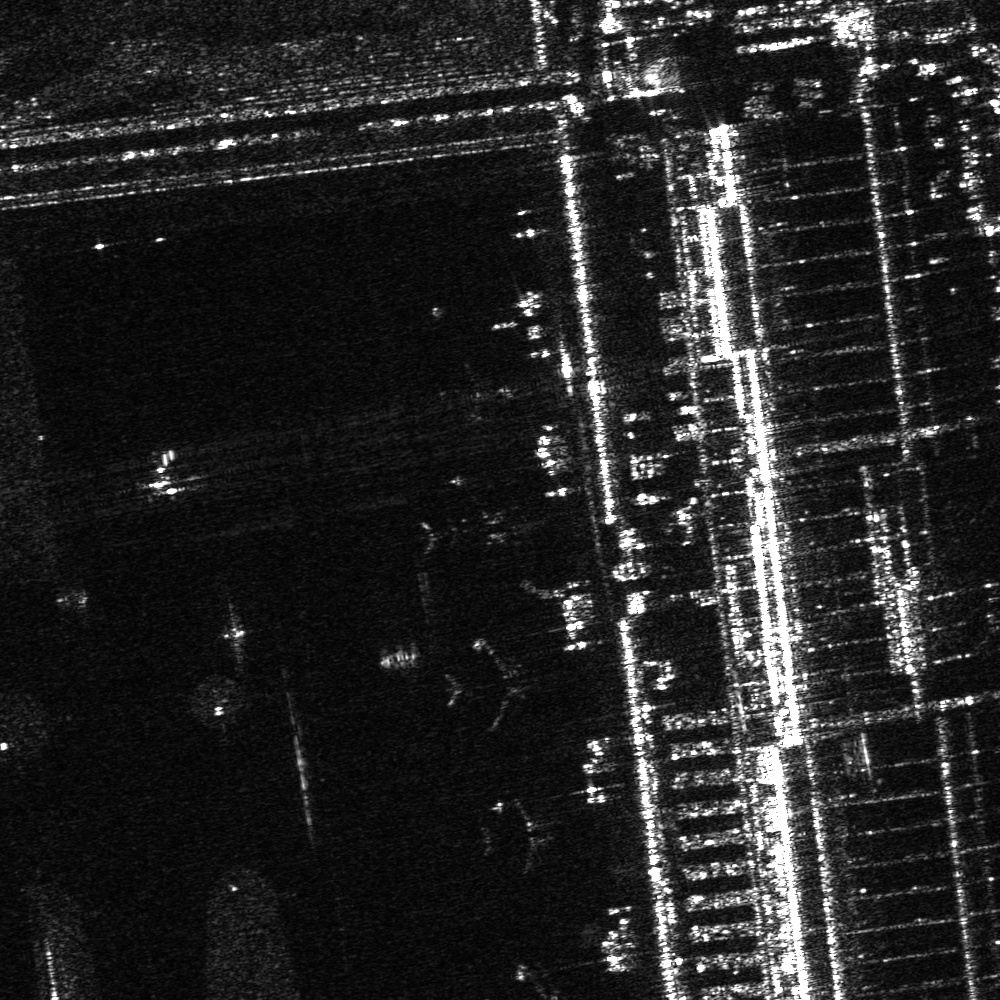Boeing787: (409, 479, 531, 583), (444, 638, 550, 731), (478, 797, 563, 880), (485, 964, 573, 999)
other: (431, 360, 515, 434), (127, 448, 197, 505)
